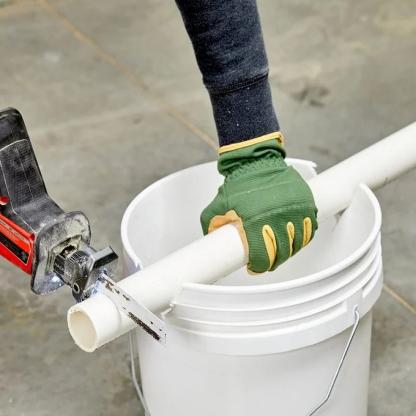PVC: (65, 122, 415, 356)
